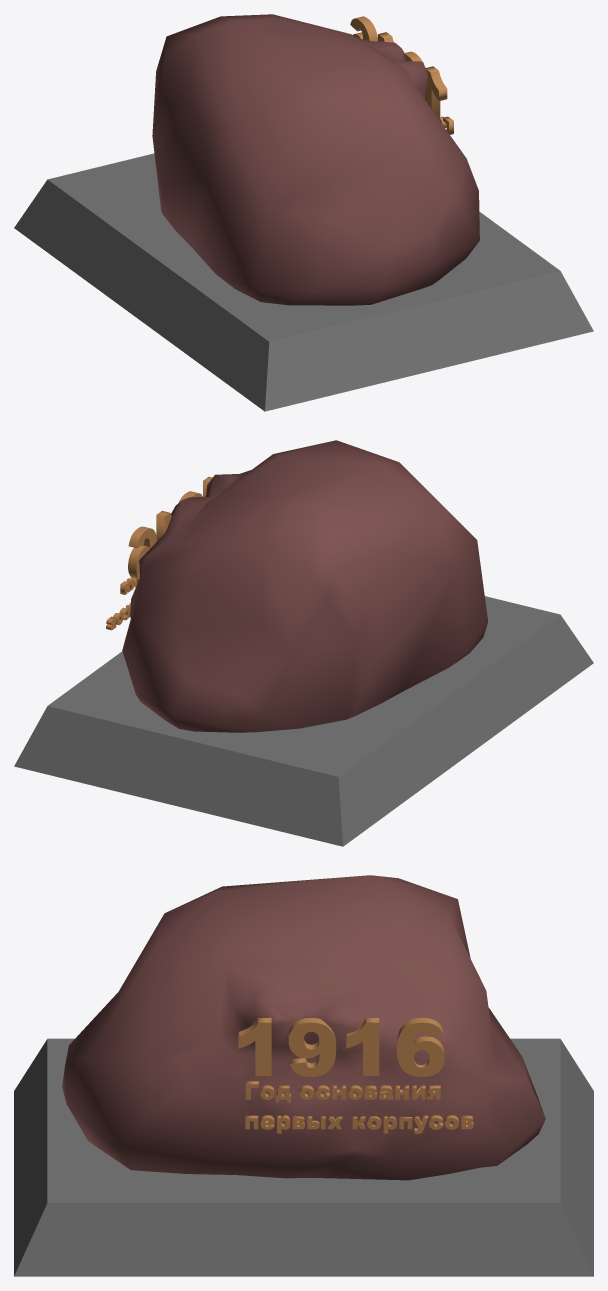
File: rock year.gltf
3 renders of one model, top to bottom at view 1: azimuth 30°, elevation 25°; view 2: azimuth 150°, elevation 25°; view 3: azimuth 270°, elevation 25°, orthographic. The views are drawn at different scales.
Parts seen in each view (by area): view 1: Cube, Cube.001, Text; view 2: Cube, Cube.001, Text, Text.001; view 3: Cube, Cube.001, Text, Text.001.
Boxes of the visible parts, left/top/right/bottom form: Cube: left=152, top=14, right=479, bottom=305; Cube.001: left=14, top=153, right=593, bottom=411; Text: left=350, top=16, right=447, bottom=117; Cube: left=122, top=440, right=488, bottom=732; Cube.001: left=14, top=596, right=593, bottom=846; Text: left=128, top=476, right=212, bottom=578; Text.001: left=106, top=577, right=138, bottom=630; Cube: left=62, top=875, right=545, bottom=1180; Cube.001: left=14, top=1038, right=593, bottom=1276; Text: left=238, top=1018, right=444, bottom=1076; Text.001: left=245, top=1081, right=473, bottom=1133.
Size of the model in its own units: 3.91 by 2.81 by 5.16.
